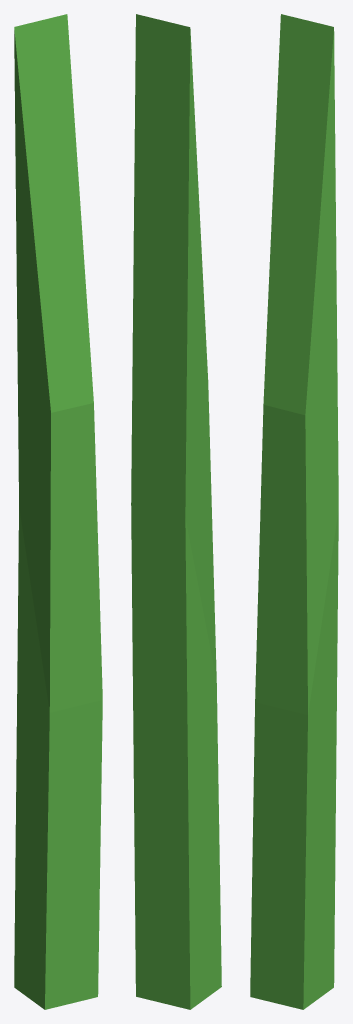
The model's file is grass1.glb.
The picture shows the model from 3 angles, left to right: view 1: azimuth 30°, elevation 25°; view 2: azimuth 150°, elevation 25°; view 3: azimuth 330°, elevation 25°; orthographic projection. The views are drawn at different scales.
Visible parts, largest first — view 1: grass blade 1; view 2: grass blade 1; view 3: grass blade 1.
Part boxes in pixels (x1,y1,x2,y2): grass blade 1: (14,14,102,1009); grass blade 1: (131,14,221,1009); grass blade 1: (250,14,338,1009).
Bounding box in the file's own units: 0.3265 × 5.17 × 0.3.
